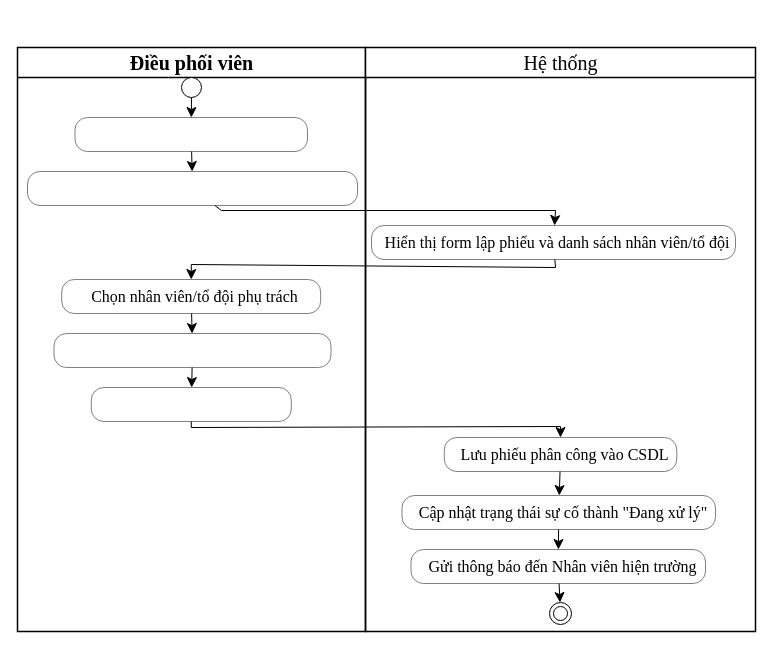
This 774x650 diagram has some shape labels left out. Each missing label, with the centre of its shape:
Chọn chức năng "Lập phiếu phân công xử lý": point (192, 188)
Chọn sự cố đã được duyệt: point (190, 134)
Nhấn "Xác nhận phân công": point (191, 404)
Nhập ghi chú hoặc thời hạn hoàn thành: point (192, 350)
